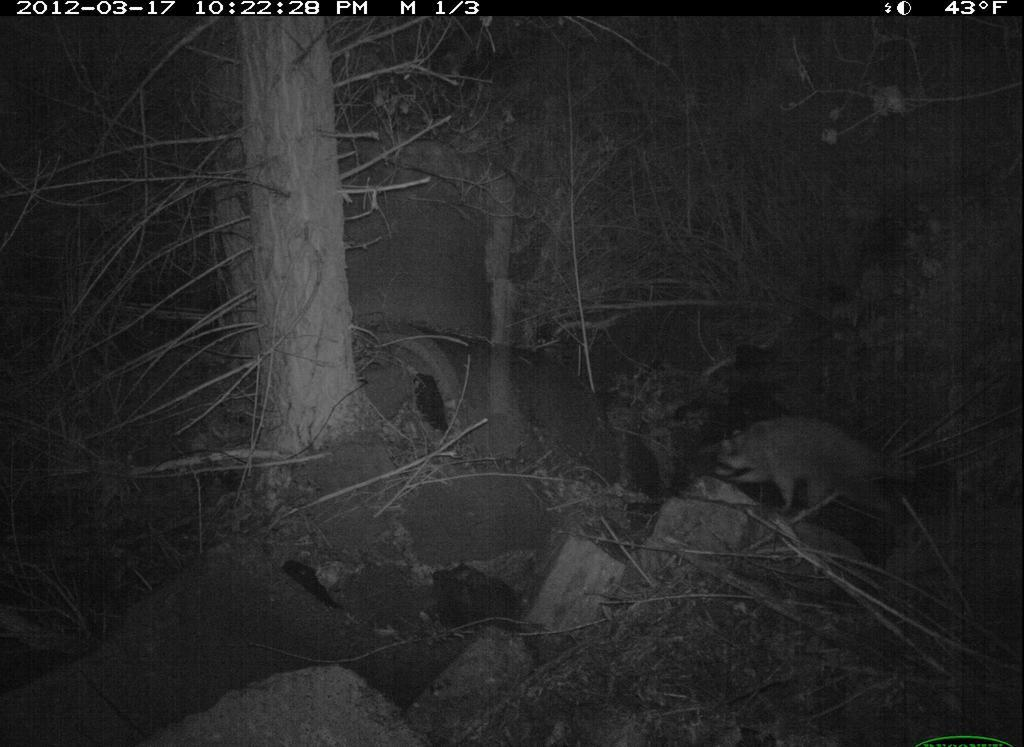raccoon: (679, 404, 941, 551)
